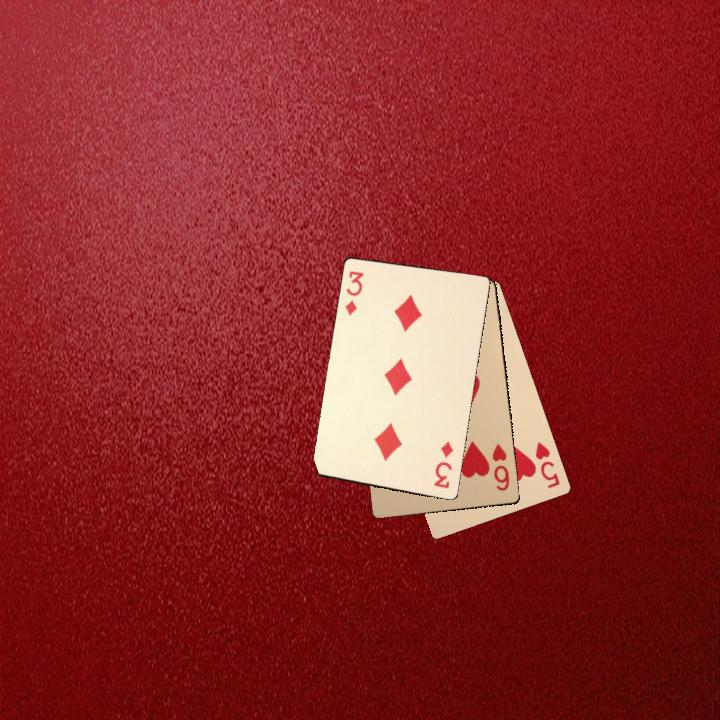3d: (430, 437, 456, 491), (341, 267, 366, 318)
5h: (531, 438, 562, 491)
6h: (488, 442, 512, 493)
